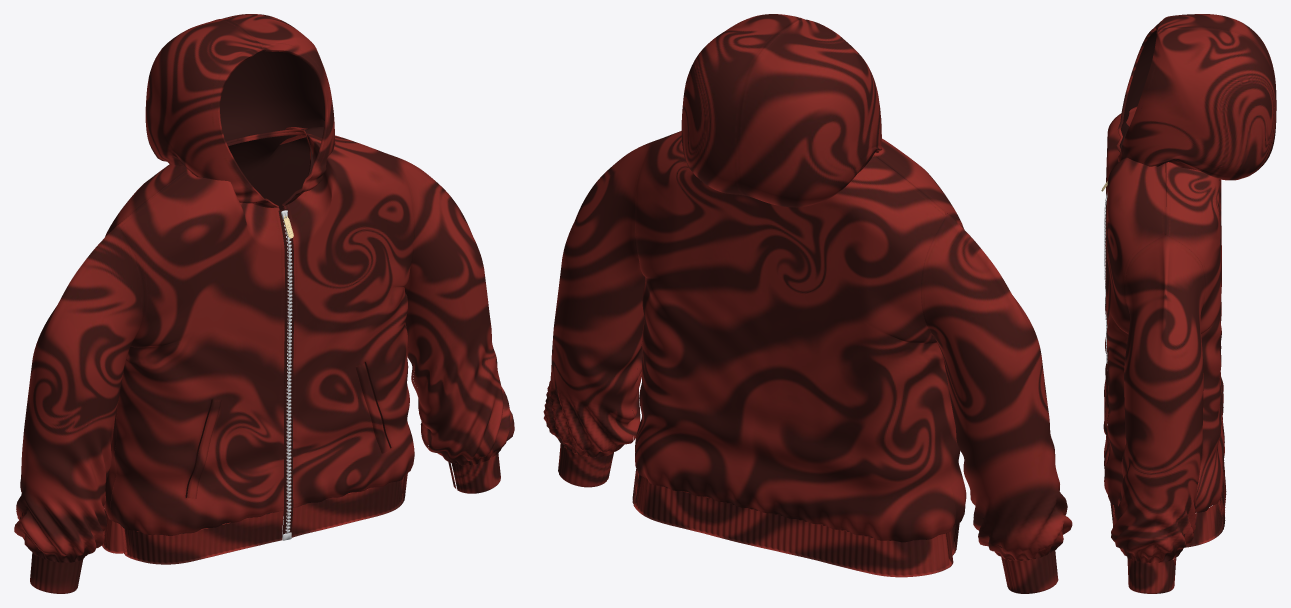
Rendered from ressac-v2-crimson-flow.glb.
The picture shows the model from 3 angles, left to right: view 1: azimuth 30°, elevation 25°; view 2: azimuth 150°, elevation 25°; view 3: azimuth 270°, elevation 25°; orthographic projection. The views are drawn at different scales.
Visible parts, largest first — view 1: Panel_Right, Panel_Left, Sleeve_Right, Sleeve_Left, Hood_Outer, Hem, Hood_Inner, Body_Back, Zip_Teeth_Right, Zip_Teeth_Left, Cuff_Right, Cuff_Left (+2 smaller); view 2: Body_Back, Hood_Outer, Sleeve_Right, Sleeve_Left, Hem, Panel_Right, Cuff_Right, Cuff_Left; view 3: Sleeve_Left, Hood_Outer, Panel_Left, Body_Back, Cuff_Left, Hem, Hood_Inner, Panel_Right, Pocket_Left, Zip_Teeth_Left.
Boxes of the visible parts, box(x1,y1,x2,y2) form: Panel_Right: box(111, 170, 284, 535); Panel_Left: box(282, 133, 414, 508); Sleeve_Right: box(14, 225, 144, 562); Sleeve_Left: box(397, 157, 514, 465); Hood_Outer: box(145, 14, 335, 207); Hem: box(102, 473, 407, 564); Hood_Inner: box(220, 51, 324, 175); Body_Back: box(103, 127, 381, 521); Zip_Teeth_Right: box(278, 209, 291, 540); Zip_Teeth_Left: box(283, 208, 294, 539); Cuff_Right: box(30, 552, 83, 593); Cuff_Left: box(448, 453, 500, 493); Body_Back: box(634, 132, 955, 542); Hood_Outer: box(681, 14, 882, 207); Sleeve_Right: box(921, 214, 1072, 560); Sleeve_Left: box(543, 142, 651, 457); Hem: box(632, 469, 959, 577); Panel_Right: box(873, 138, 966, 529); Cuff_Right: box(1001, 550, 1058, 593); Cuff_Left: box(558, 443, 613, 487); Sleeve_Left: box(1111, 234, 1205, 562); Hood_Outer: box(1116, 14, 1276, 180); Panel_Left: box(1104, 157, 1166, 506); Body_Back: box(1165, 162, 1224, 512); Cuff_Left: box(1127, 557, 1176, 593); Hem: box(1110, 423, 1226, 547); Hood_Inner: box(1119, 30, 1168, 160); Panel_Right: box(1103, 106, 1137, 435); Pocket_Left: box(1105, 363, 1109, 462); Zip_Teeth_Left: box(1104, 192, 1107, 425).
Bounding box in the file's own units: 0.9508 × 0.9165 × 0.3121.
Materials: 6 (1 with a texture image).
